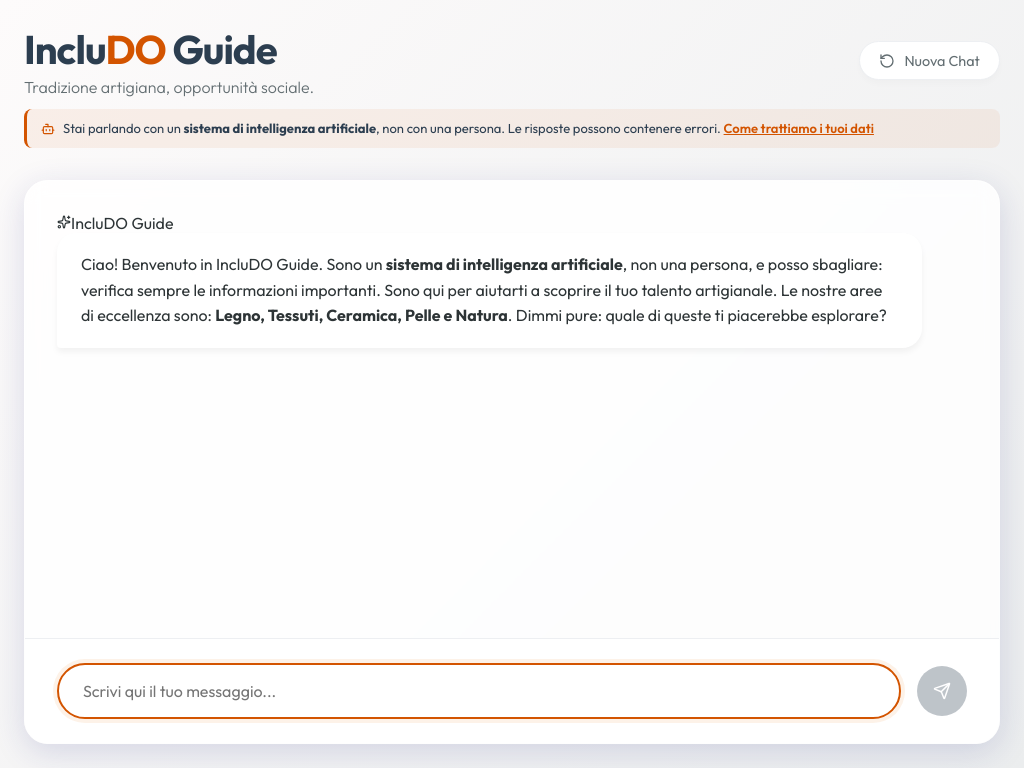
IncluDO Frontend Integration & UX › sends a message and renders the assistant reply from the API
The width and height of the screenshot is (1024, 768).
Expected: the text "Le nostre aree di eccellenza sono" is shown, [81, 254, 882, 325]
Type "Vorrei un corso da remoto" into the field at (479, 691), box [57, 663, 901, 719]
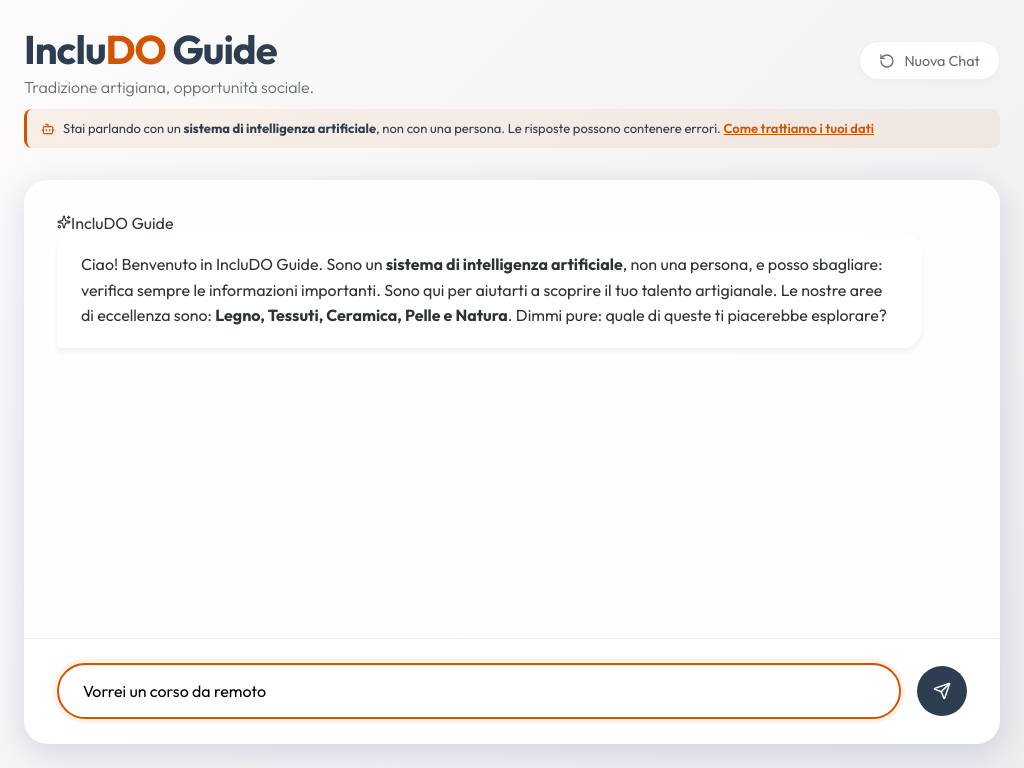
Click the button named "Invia messaggio" at (942, 691), box [917, 666, 967, 716]
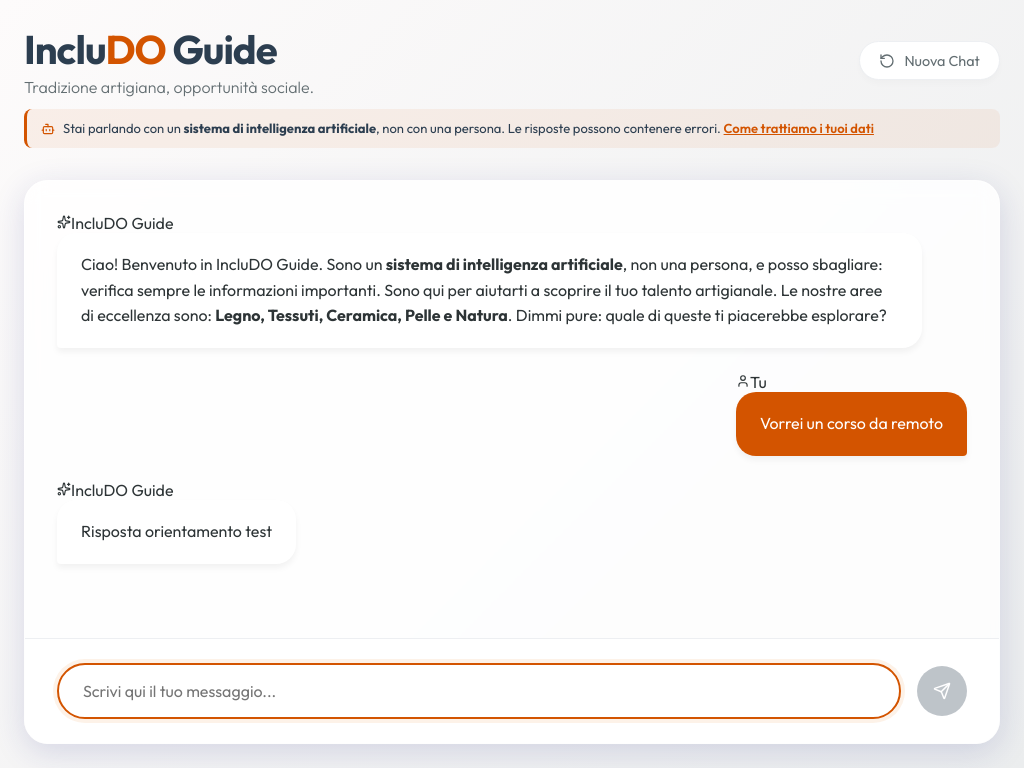
Expected: the text "Risposta orientamento test" is shown, [81, 519, 272, 545]
